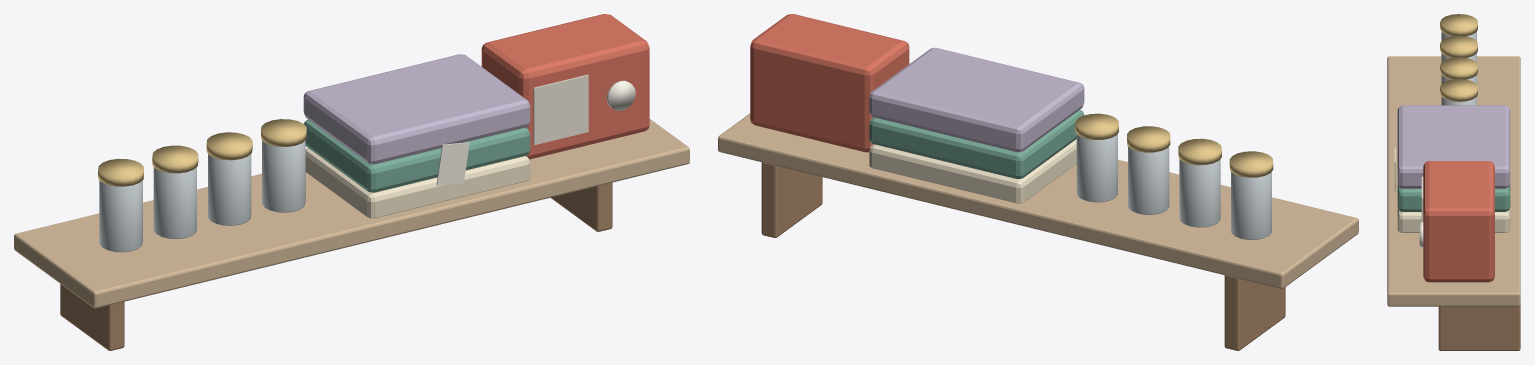
Rendered from v2_wall_shelf.fbx.
3 views of the same model, side by side, from view 1: azimuth 30°, elevation 25°; view 2: azimuth 150°, elevation 25°; view 3: azimuth 270°, elevation 25° (orthographic). The views are drawn at different scales.
Parts seen in each view (by area): view 1: Shelf, Folded.002, Radio, Folded.001, Folded, RadioGrill, Jar, Jar.003, Jar.001, Jar.002, Bracket, Bracket.001 (+6 smaller); view 2: Shelf, Radio, Folded.002, Folded.001, Folded, Bracket.001, Bracket, Jar.002, Jar.001, Jar.003, Jar, JarLid (+3 smaller); view 3: Shelf, Radio, Folded.002, Bracket.001, Folded.001, Folded, JarLid.003, JarLid.002, JarLid.001, JarLid, Jar.003, RadioGrill (+1 smaller).
Part boxes in pixels (x1,y1,x2,y2): Shelf: [14, 119, 689, 308]; Folded.002: [303, 54, 530, 164]; Radio: [481, 14, 649, 159]; Folded.001: [304, 119, 530, 192]; Folded: [305, 148, 530, 218]; RadioGrill: [533, 74, 588, 145]; Jar: [99, 180, 142, 252]; Jar.003: [262, 140, 305, 212]; Jar.001: [153, 167, 196, 238]; Jar.002: [208, 154, 251, 225]; Bracket: [60, 284, 124, 350]; Bracket.001: [550, 182, 612, 231]; Shelf: [718, 113, 1358, 288]; Radio: [750, 14, 909, 152]; Folded.002: [869, 47, 1084, 152]; Folded.001: [869, 110, 1084, 178]; Folded: [869, 139, 1076, 203]; Bracket.001: [761, 162, 822, 237]; Bracket: [1224, 275, 1285, 350]; Jar.002: [1128, 146, 1169, 214]; Jar.001: [1179, 159, 1220, 227]; Jar.003: [1076, 134, 1117, 202]; Jar: [1231, 172, 1271, 239]; JarLid: [1229, 151, 1273, 177]; Shelf: [1387, 56, 1520, 306]; Radio: [1423, 161, 1494, 282]; Folded.002: [1397, 105, 1510, 188]; Bracket.001: [1438, 305, 1520, 350]; Folded.001: [1397, 184, 1510, 211]; Folded: [1397, 208, 1510, 232]; JarLid.003: [1440, 79, 1477, 101]; JarLid.002: [1440, 57, 1477, 79]; JarLid.001: [1440, 35, 1477, 57]; JarLid: [1440, 14, 1477, 36]; Jar.003: [1441, 97, 1476, 105]; RadioGrill: [1421, 176, 1423, 221].
Bounding box in the file's own units: 1.1 × 0.33 × 0.26.
